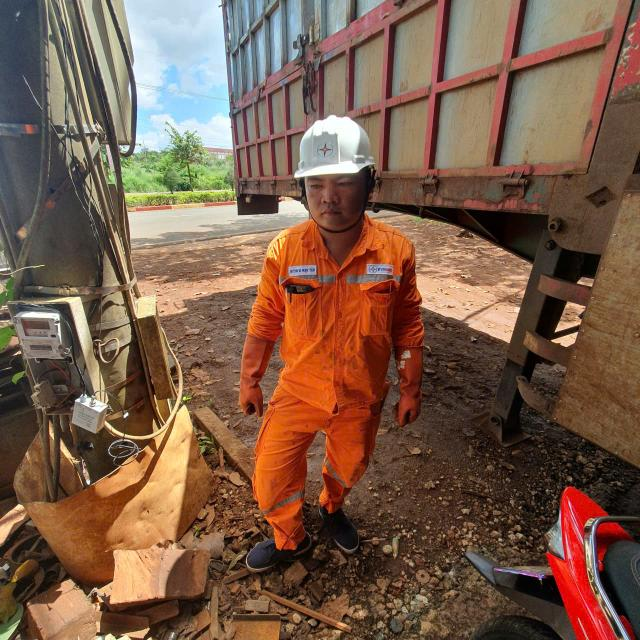gloves: (224, 331, 278, 421), (385, 338, 435, 432)
helmet: (271, 98, 390, 191)
shoes: (311, 498, 378, 567), (238, 520, 317, 574)
